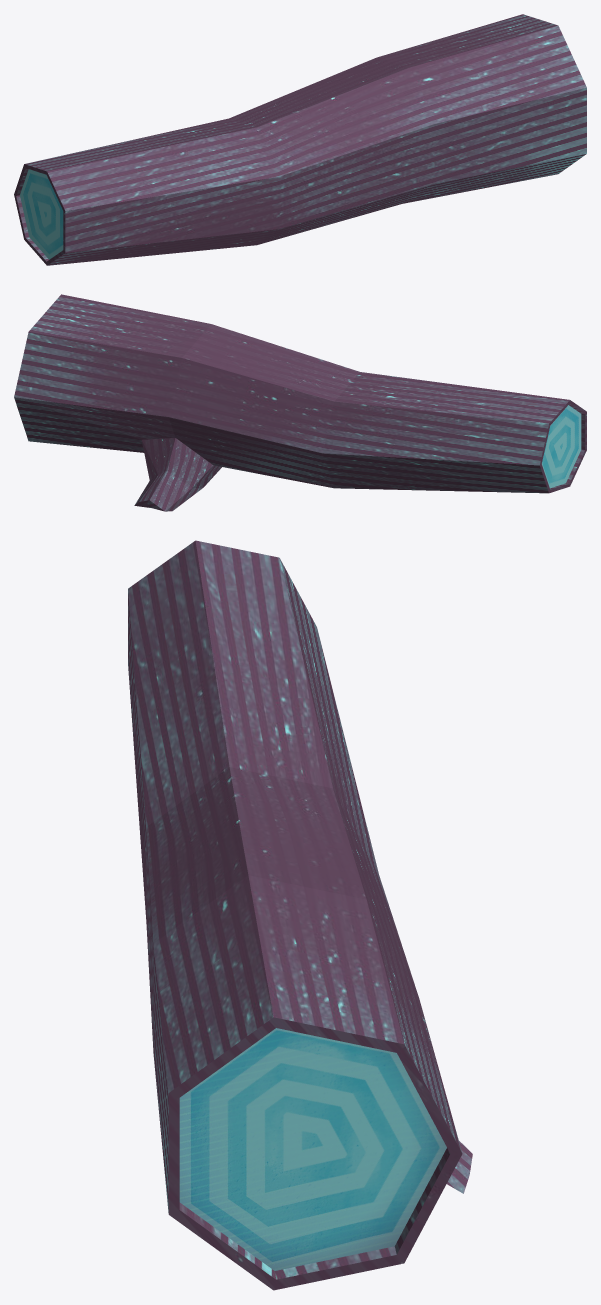
File: FBranch_02.fbx
3 views of the same model, one above another, from view 1: azimuth 30°, elevation 25°; view 2: azimuth 150°, elevation 25°; view 3: azimuth 270°, elevation 25° (orthographic). The views are drawn at different scales.
Parts seen in each view (by area): view 1: Cylinder.011; view 2: Cylinder.011; view 3: Cylinder.011.
Part boxes in pixels (box(x1,y1,x2,y2)): Cylinder.011: box(14, 14, 586, 265); Cylinder.011: box(14, 294, 586, 511); Cylinder.011: box(128, 540, 472, 1290).
Bounding box in the file's own units: 768 × 224 × 234.
